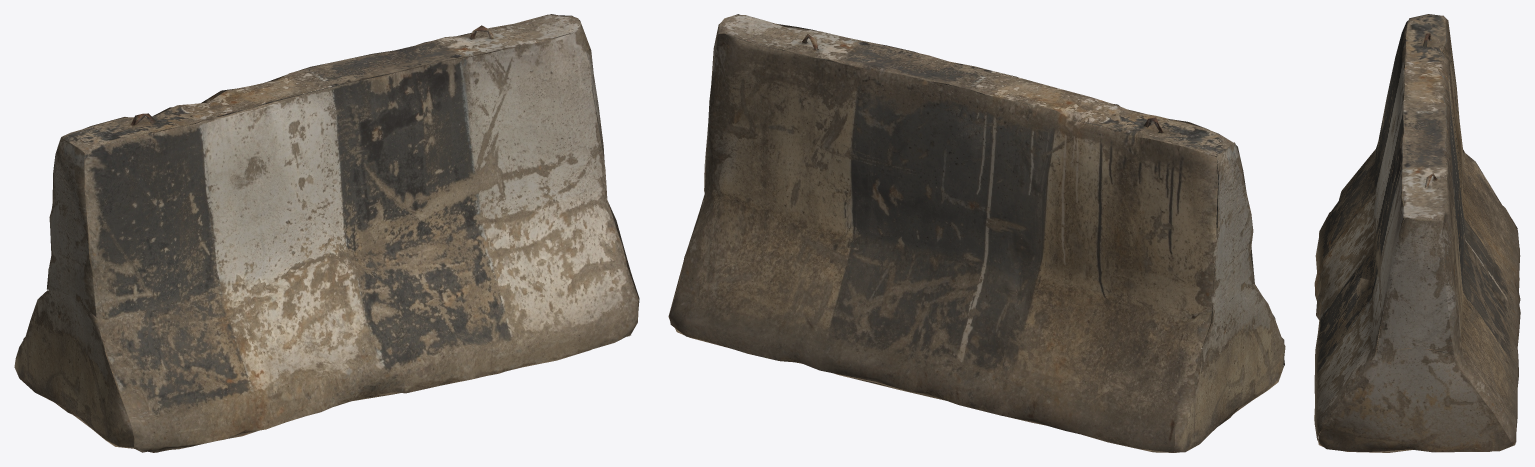
Rendered from concrete_road_barrier.glb.
3 renders of one model, left to right at view 1: azimuth 30°, elevation 25°; view 2: azimuth 150°, elevation 25°; view 3: azimuth 270°, elevation 25°, orthographic. The views are drawn at different scales.
Visible parts, largest first — view 1: concrete_road_barrier; view 2: concrete_road_barrier; view 3: concrete_road_barrier.
Part boxes in pixels (x1,y1,x2,y2): concrete_road_barrier: (14, 14, 639, 452); concrete_road_barrier: (668, 14, 1285, 452); concrete_road_barrier: (1314, 14, 1520, 452).
Size of the model in its own units: 1.54 by 0.8323 by 0.6344.
Materials: 1 (1 with a texture image).
